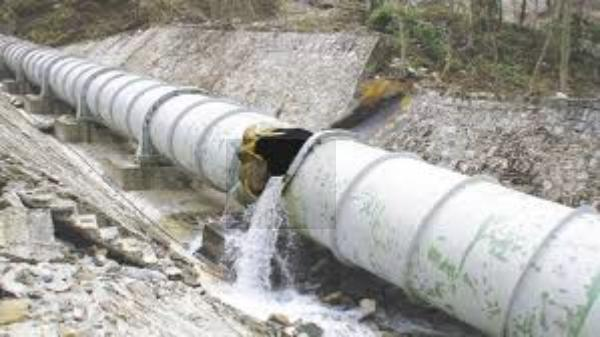water: (226, 139, 336, 229)
